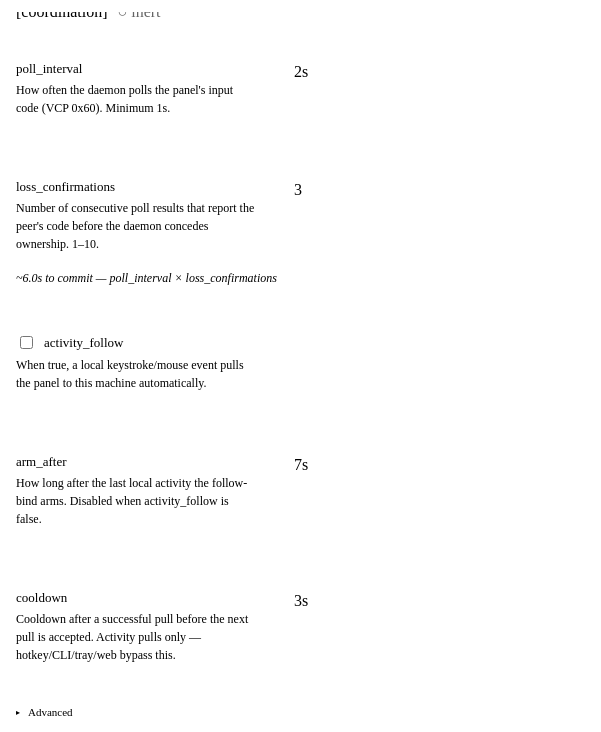
Test: CoordinationSection › expand Advanced shows state_poll_interval
(page scrolled)
Click Advanced toggle
Click the text "Advanced" at (50, 712), box [28,706,73,718]
(page scrolled)
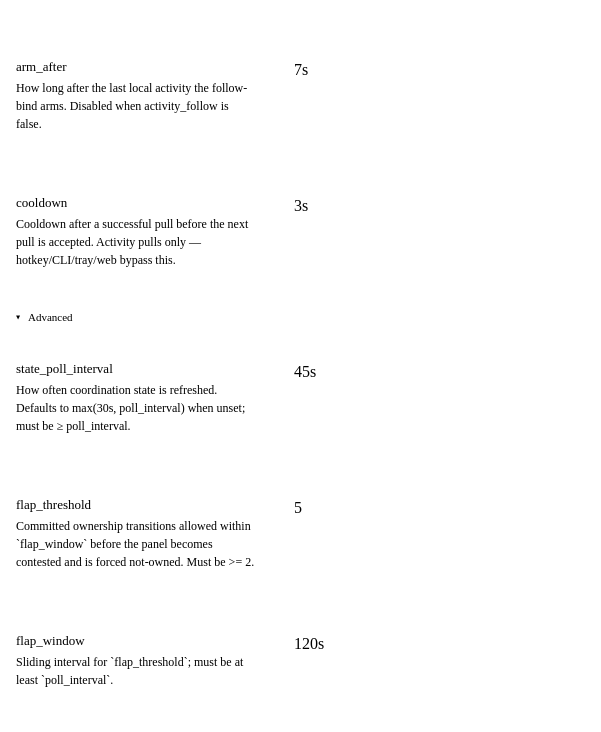
Expected: the field labelled "state_poll_interval" is shown, [284,357,584,387]
